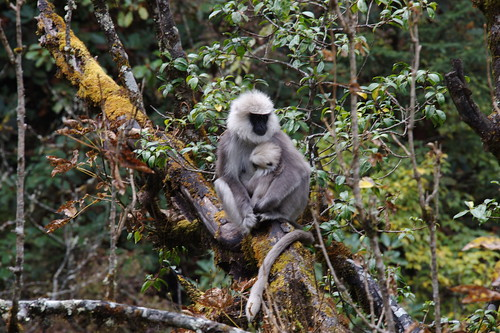monkey: (211, 88, 316, 321), (245, 142, 284, 208)
